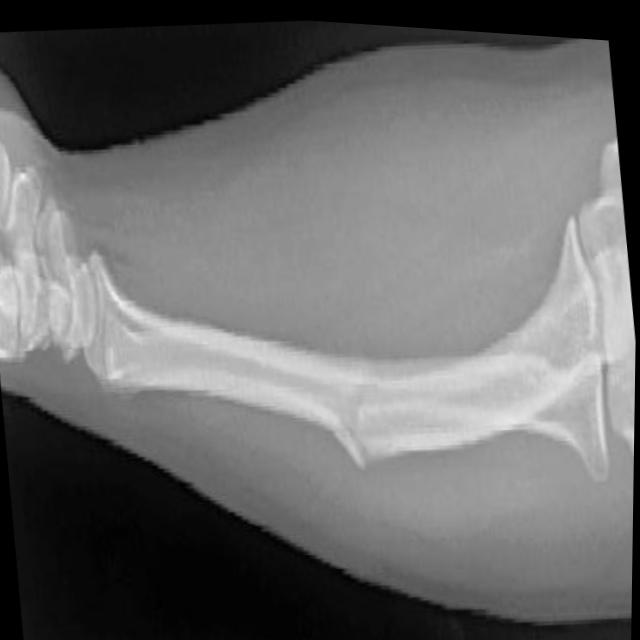fracture: (317, 343, 391, 506)
